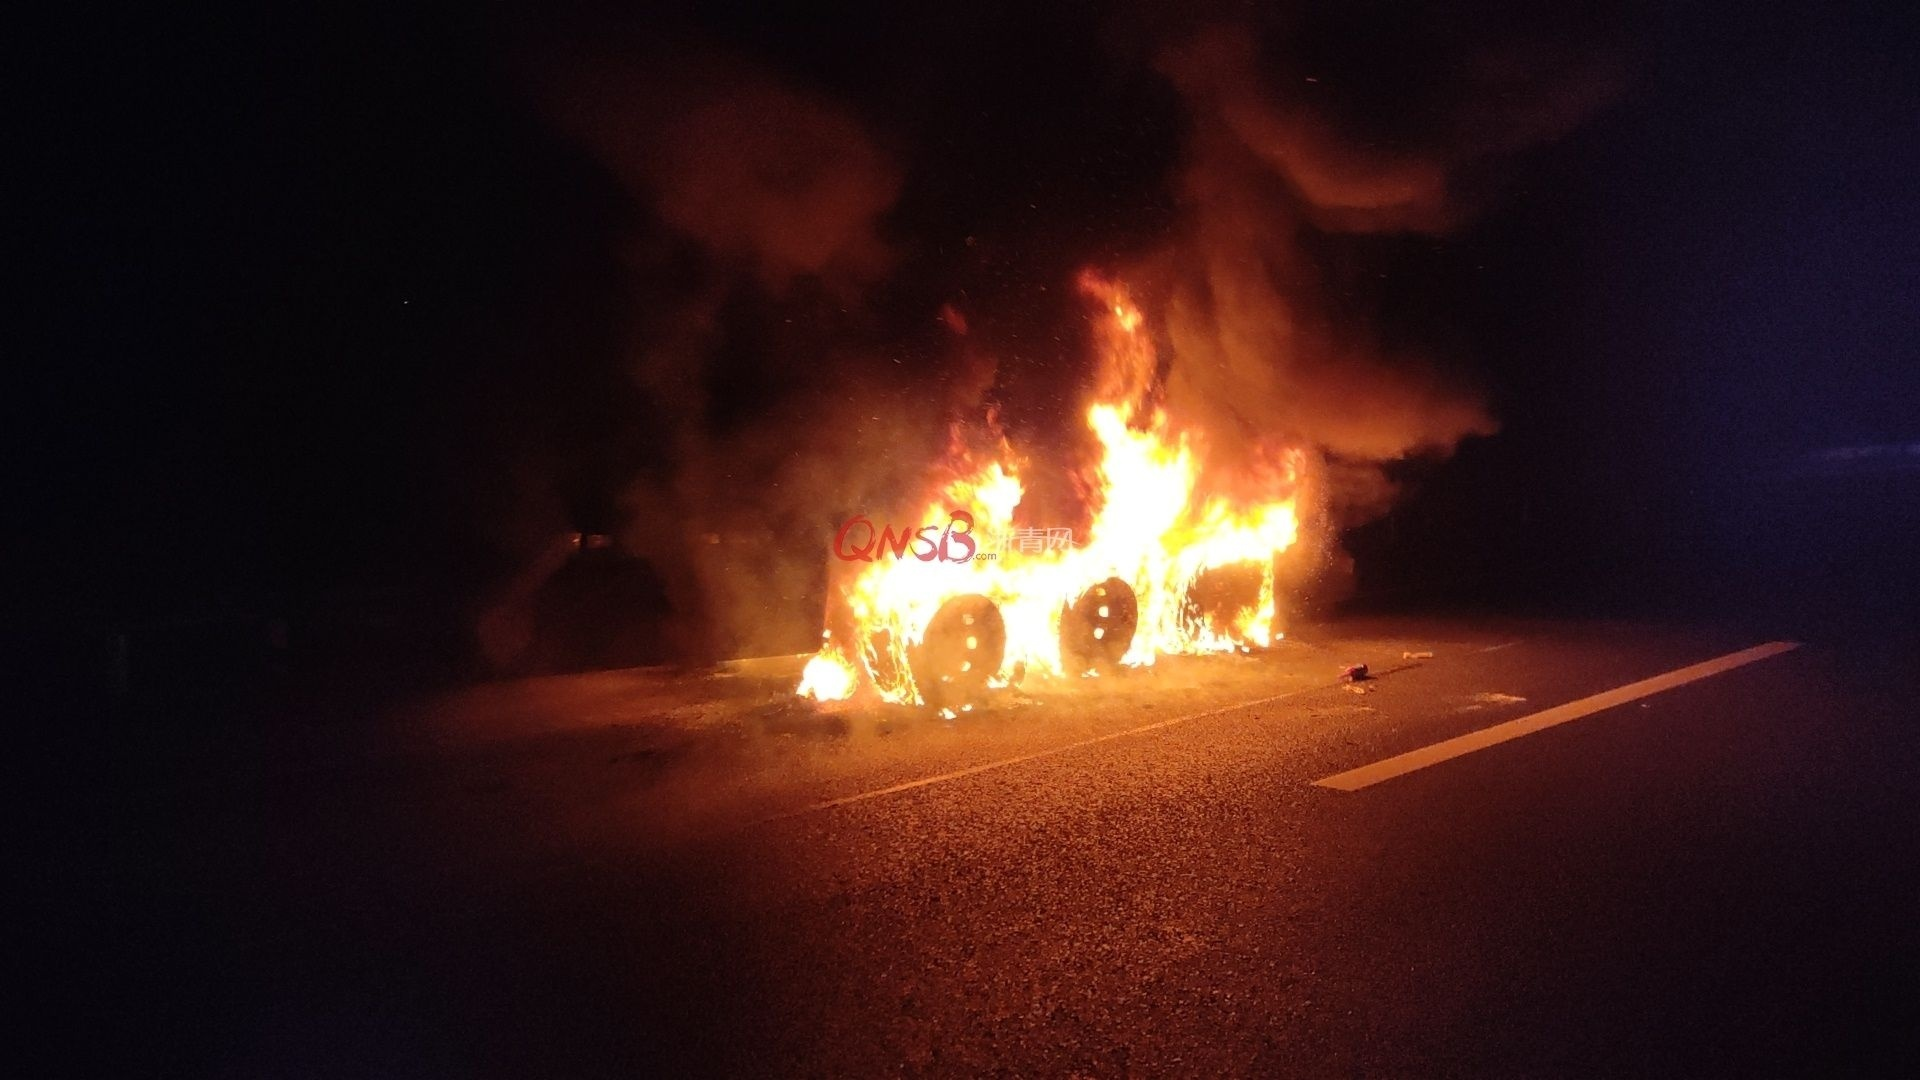fire: (793, 306, 1315, 705)
